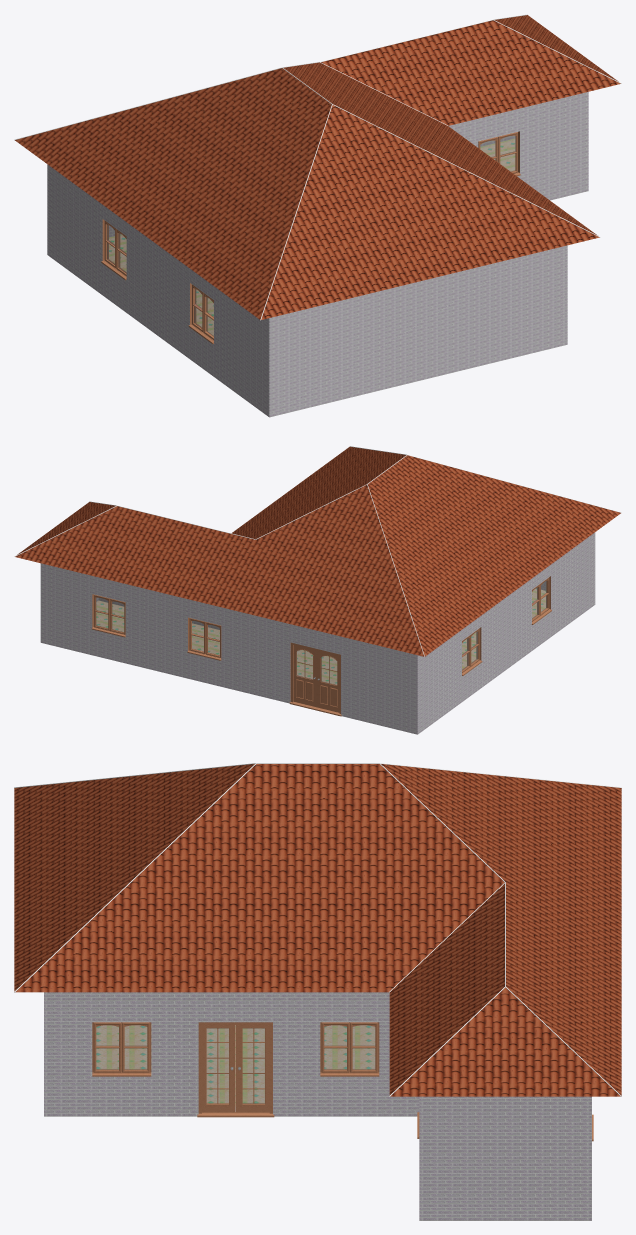
Rendered from telhado34N.glb.
The picture shows the model from 3 angles, top to bottom: view 1: azimuth 30°, elevation 25°; view 2: azimuth 150°, elevation 25°; view 3: azimuth 270°, elevation 25°; orthographic projection. The views are drawn at different scales.
Visible parts, largest first — view 1: object 2, object 22, object 23, object 24, root; view 2: object 2, object 22, object 23, object 24, root; view 3: object 2, object 22, object 23, root, object 24.
Part boxes in pixels (bbox=[...]): object 2: bbox=[15, 15, 620, 319]; object 22: bbox=[47, 92, 588, 417]; object 23: bbox=[101, 131, 520, 343]; object 24: bbox=[107, 135, 515, 336]; root: bbox=[109, 138, 515, 335]; object 2: bbox=[15, 446, 620, 656]; object 22: bbox=[40, 532, 595, 734]; object 23: bbox=[91, 576, 551, 716]; object 24: bbox=[96, 581, 546, 684]; root: bbox=[96, 588, 545, 684]; object 2: bbox=[14, 764, 621, 1096]; object 22: bbox=[44, 992, 591, 1220]; object 23: bbox=[92, 1022, 593, 1141]; root: bbox=[96, 1025, 375, 1111]; object 24: bbox=[96, 1025, 375, 1103].
Size of the model in its own units: 14.82 by 5.9 by 12.32.
Materials: 10 (5 with a texture image).
